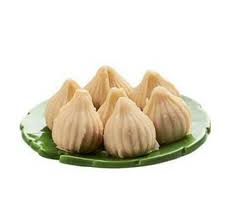modak: (102, 97, 160, 158), (59, 88, 105, 158), (144, 83, 192, 143)
